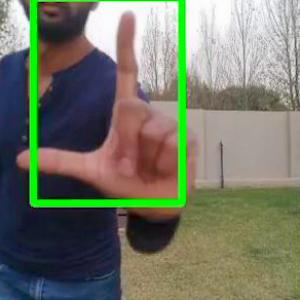land_hand: (24, 13, 204, 215)
